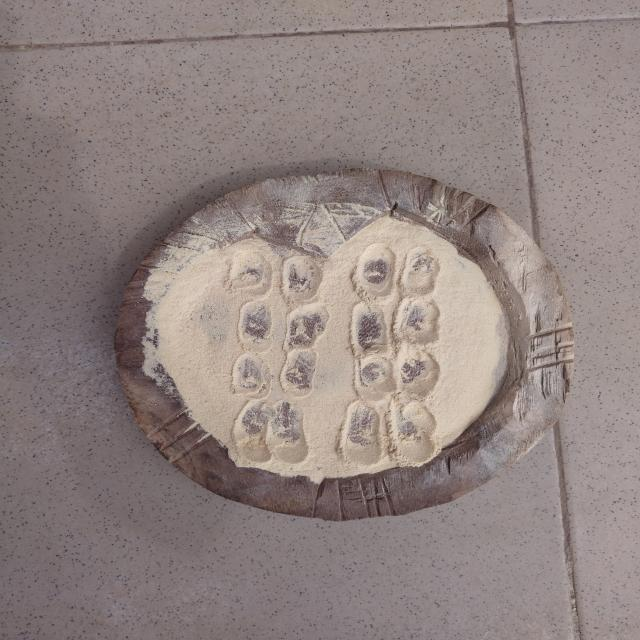double: (336, 401, 442, 467), (228, 396, 314, 466), (352, 243, 444, 303), (354, 348, 442, 406), (349, 298, 442, 352), (238, 296, 332, 349), (229, 251, 321, 305), (232, 350, 324, 400)
